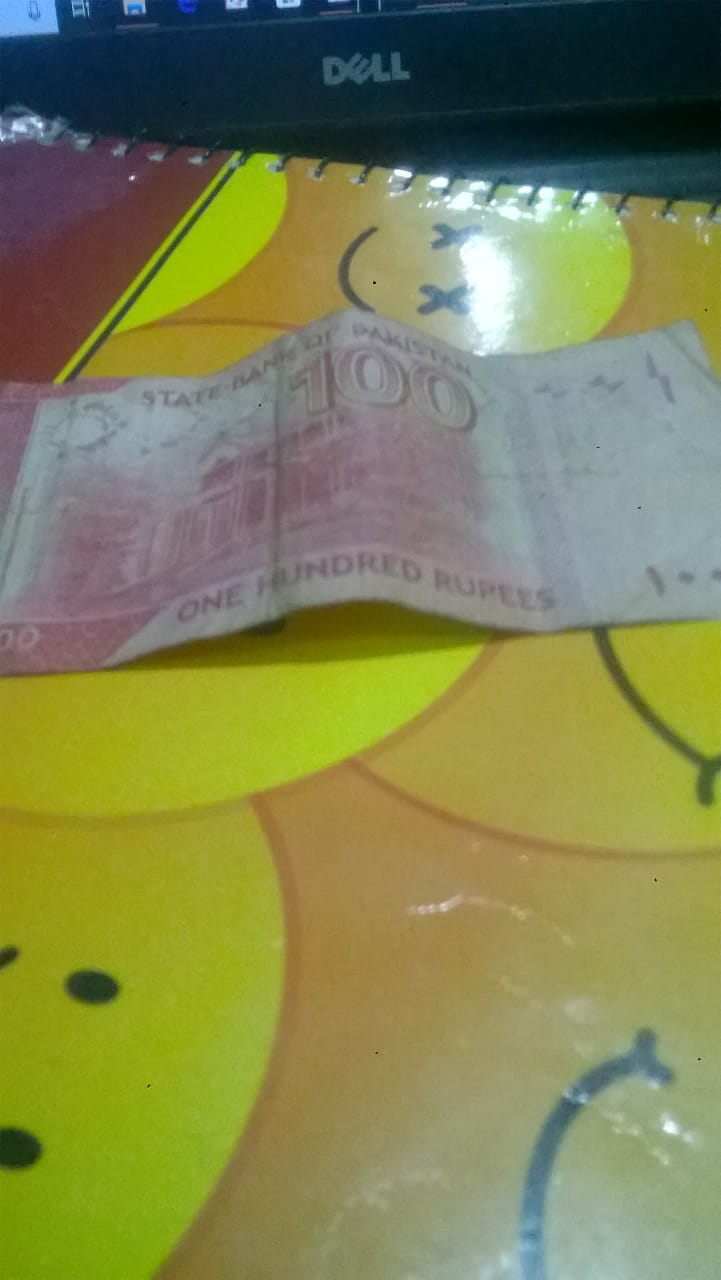100 rupee: (4, 346, 715, 673)
